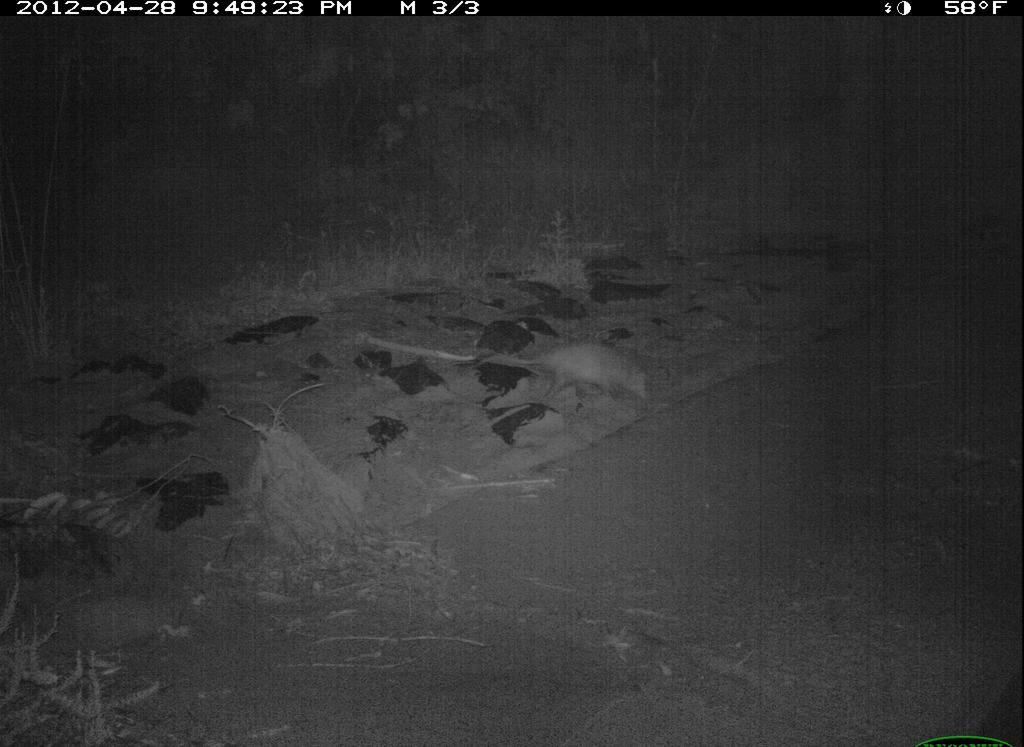opossum: (459, 335, 667, 412)
